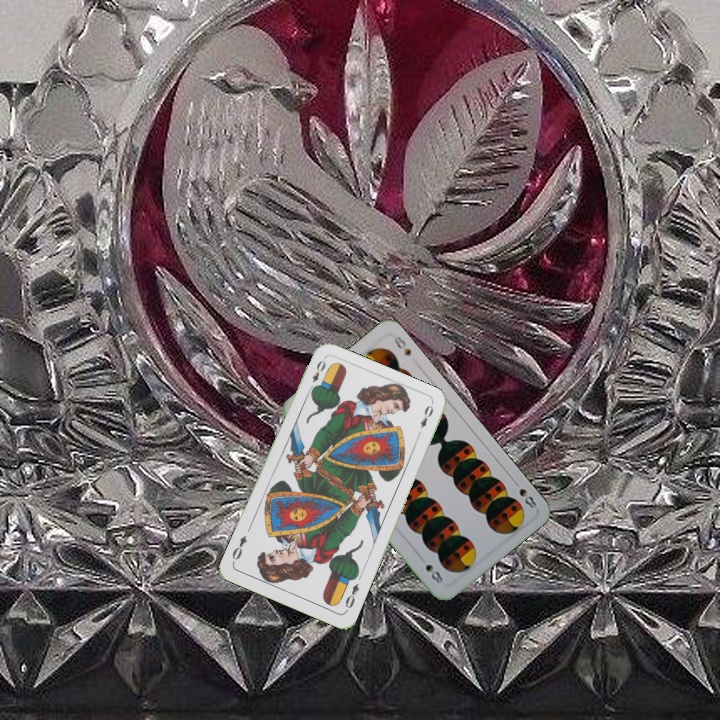EO: (305, 356, 328, 394), (341, 579, 362, 614)
S8: (509, 476, 539, 511)
